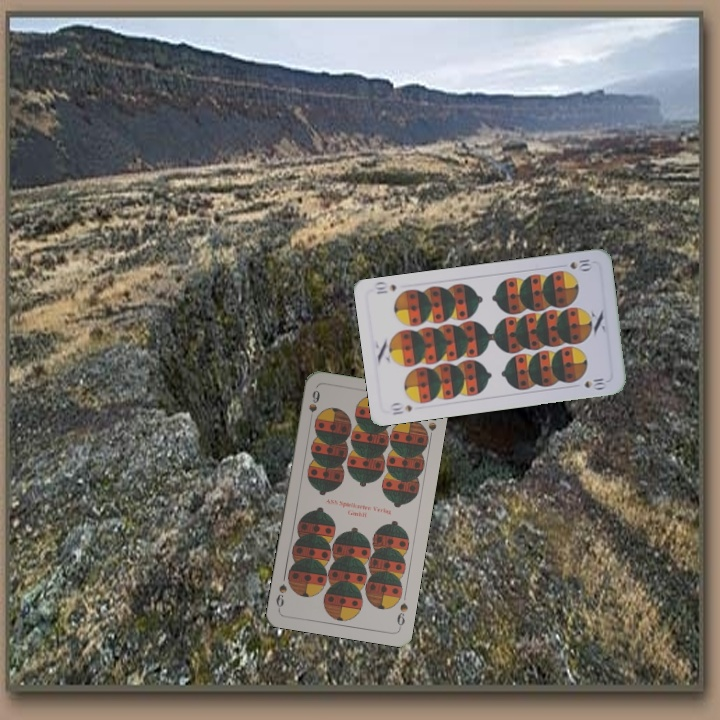S10: (566, 255, 594, 273), (387, 399, 415, 417)
S9: (305, 386, 322, 426), (393, 599, 410, 631)
